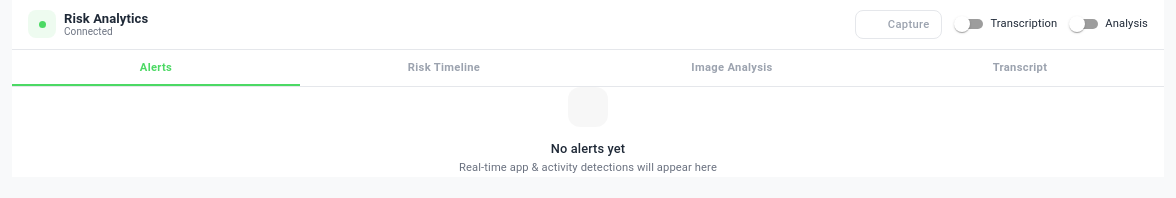
Test case: AnalyticsPanel › switching to the Transcript tab shows the empty-transcript hint
What coordinates should you click on to do the following:
click the tab "Transcript"
I would click on:
 (1020, 68)
Its box is [876,50,1164,86].
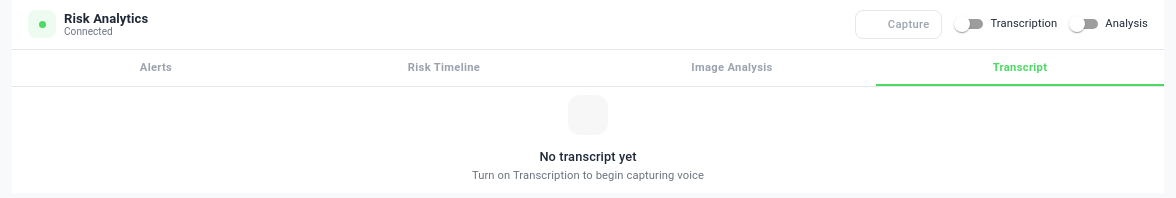
Now the text "No transcript yet" is shown, box [539,149,637,164]
